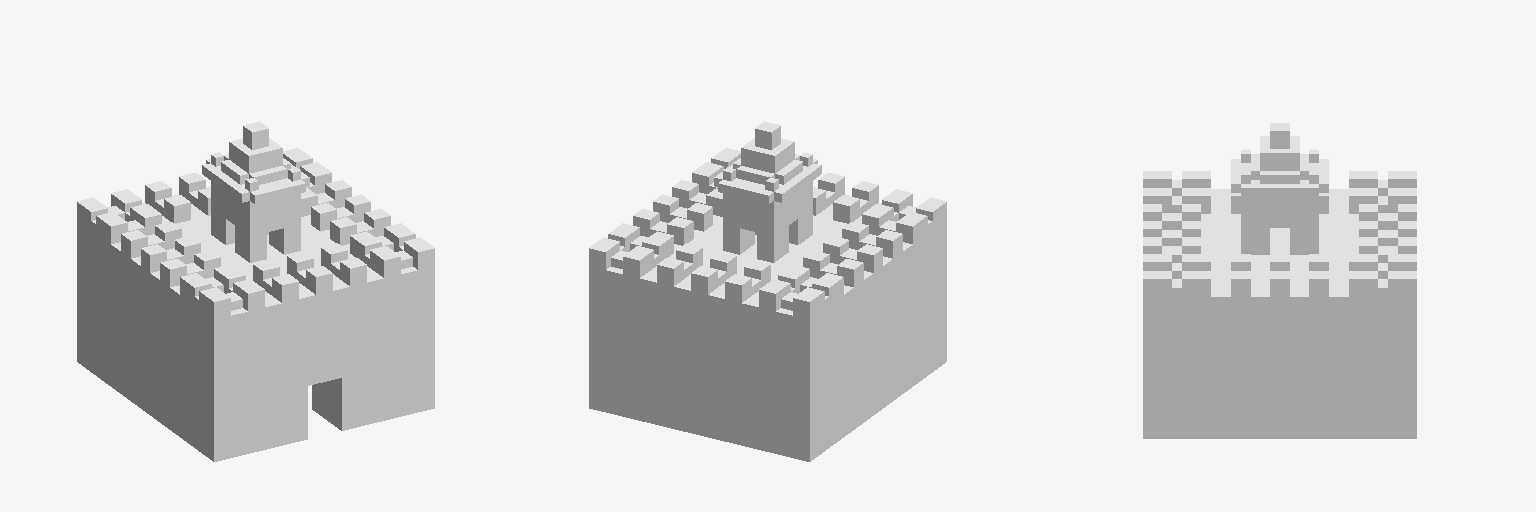
Rendered from EnemySpawner.obj.
3 renders of one model, left to right at view 1: azimuth 30°, elevation 25°; view 2: azimuth 150°, elevation 25°; view 3: azimuth 270°, elevation 25°, orthographic.
Visible parts, largest first — view 1: object 1; view 2: object 1; view 3: object 1.
Part boxes in pixels (bbox=[...]): object 1: bbox=[77, 121, 434, 461]; object 1: bbox=[589, 121, 946, 461]; object 1: bbox=[1143, 123, 1416, 438].
Bounding box in the file's own units: 5.2 × 5.8 × 5.6.